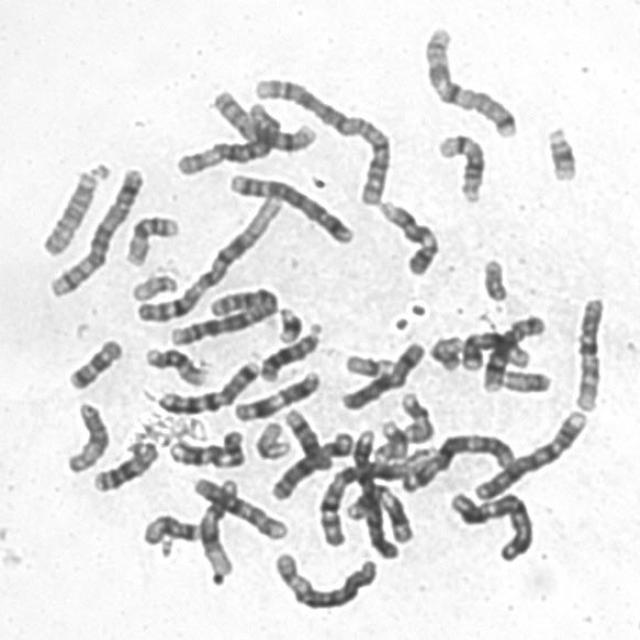A1: (130, 190, 284, 325), (319, 445, 438, 550)
A2: (249, 71, 391, 206), (165, 280, 280, 348)
A3: (396, 428, 520, 495), (444, 486, 536, 564)
B4: (468, 406, 590, 503), (344, 425, 400, 563)
B5: (44, 161, 146, 299), (222, 167, 357, 247)
C10: (188, 472, 291, 543), (568, 290, 608, 414)
C11: (228, 365, 323, 423), (339, 482, 416, 546)
C12: (192, 472, 242, 582), (456, 325, 534, 372)
C6: (170, 95, 281, 178), (267, 545, 380, 612)
C7: (417, 20, 520, 138), (152, 355, 262, 415)
C8: (208, 83, 320, 154), (479, 309, 550, 394)
C9: (372, 194, 441, 277), (164, 424, 247, 470)
D13: (255, 318, 325, 384), (87, 435, 161, 495)
D14: (432, 126, 488, 204), (278, 403, 332, 471)
D15: (35, 157, 109, 259), (59, 396, 111, 476)
E16: (121, 209, 181, 267), (139, 341, 210, 389)
E17: (370, 386, 438, 464), (394, 387, 437, 446)
E18: (62, 332, 125, 392), (137, 508, 202, 548)
F19: (249, 416, 292, 461), (344, 353, 402, 381)
F20: (424, 329, 464, 374), (498, 365, 554, 394)
G21: (539, 119, 581, 184), (272, 300, 305, 344)
G22: (126, 269, 180, 303), (476, 252, 511, 304)
X: (335, 336, 427, 412), (264, 427, 356, 502)
